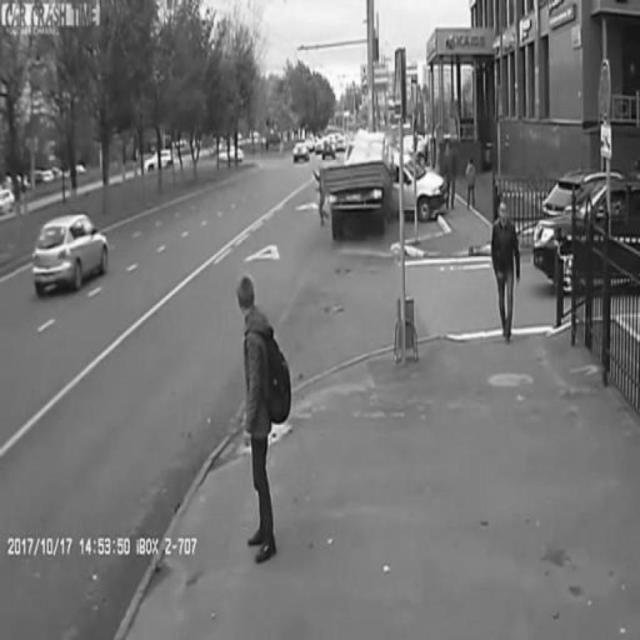accident: (318, 134, 446, 240)
person: (230, 278, 286, 566), (490, 203, 520, 349)
vehicle: (534, 175, 640, 299), (28, 210, 111, 288)
